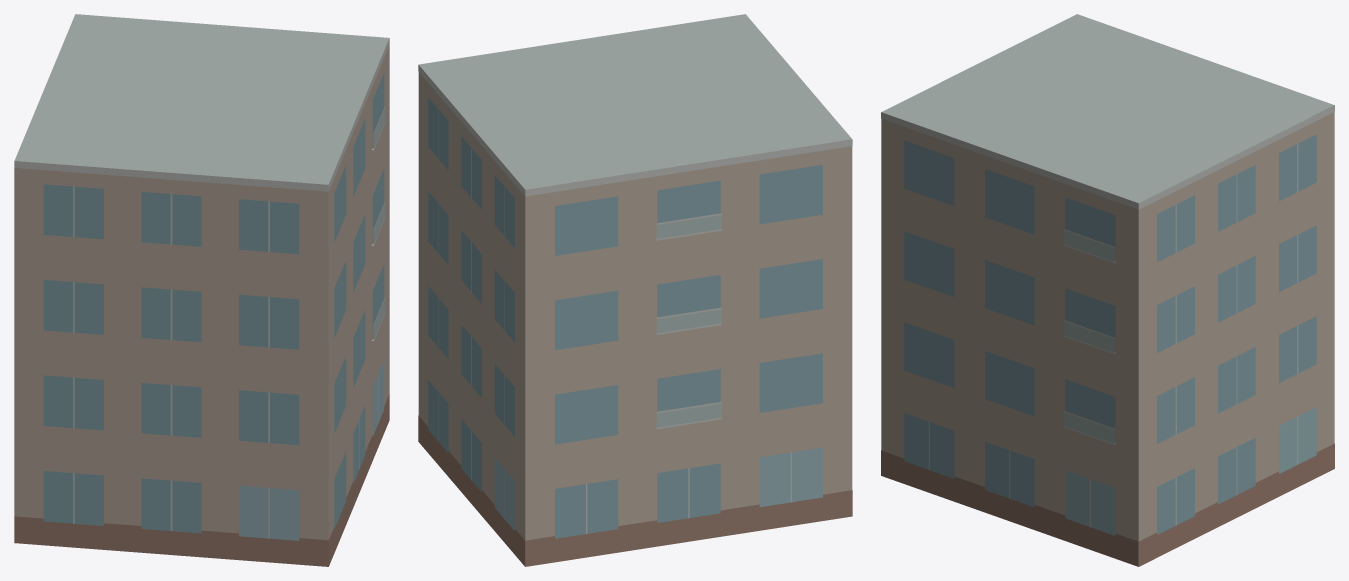
Rendered from survey-upis-32711919.glb.
3 renders of one model, left to right at view 1: azimuth 30°, elevation 25°; view 2: azimuth 150°, elevation 25°; view 3: azimuth 270°, elevation 25°, orthographic. The views are drawn at different scales.
Visible parts, largest first — view 1: survey-upis-32711919.tmp; view 2: survey-upis-32711919.tmp; view 3: survey-upis-32711919.tmp.
Boxes of the visible parts, bbox=[...] form: survey-upis-32711919.tmp: bbox=[14, 14, 389, 566]; survey-upis-32711919.tmp: bbox=[418, 14, 852, 566]; survey-upis-32711919.tmp: bbox=[881, 14, 1334, 566].
Bounding box in the file's own units: 15.19 × 13.6 × 15.38.
